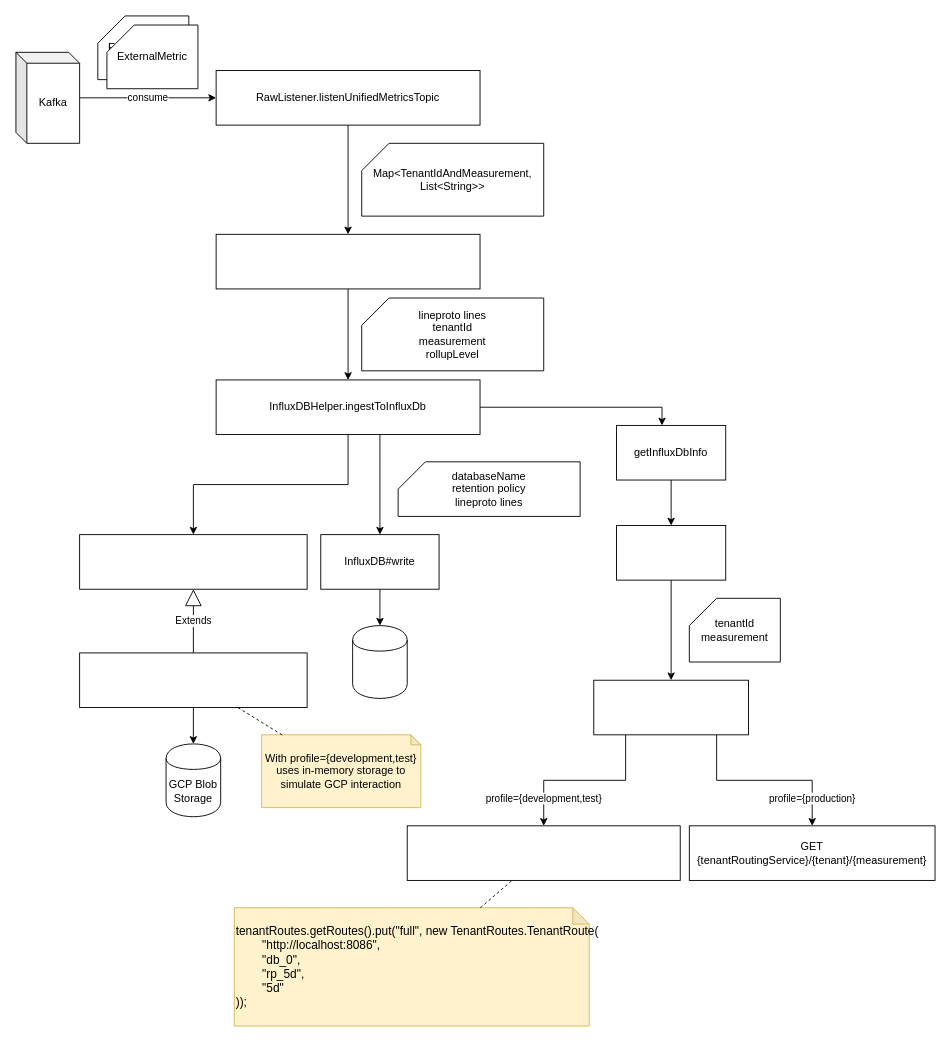
The diagram is 951 pixels wide and 1042 high, and some of its shapes have lost their labels. The centre of each missing label's shape, as x and y in pixels:
"DevTestTenantRouteProvider.getStubbedRoutes" goes at [543,852].
"GCLineProtocolBackupService.writeToBackup" goes at [193,680].
"getTenantRoutes" goes at [671,552].
"InfluxDB" goes at [379,661].
"LineProtocolBackupService.writeToBackup" goes at [193,561].
"RawListener.writeIntoInfluxDb" goes at [347,261].
"RouteProvider.getRoute" goes at [670,707].
